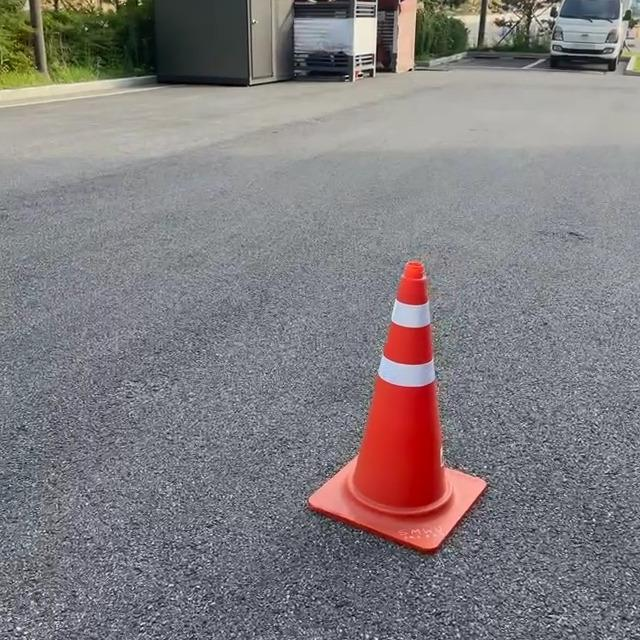fallen_object: (300, 233, 550, 635)
